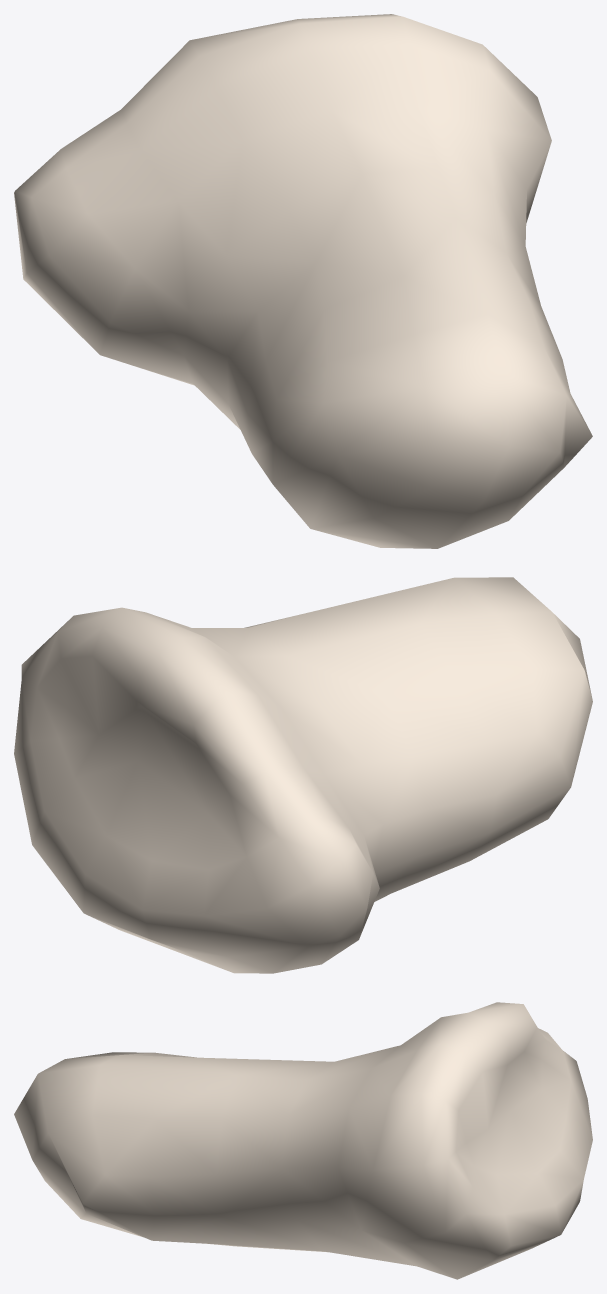
Rendered from right_toe_3_distal.glb.
The picture shows the model from 3 angles, top to bottom: view 1: azimuth 30°, elevation 25°; view 2: azimuth 150°, elevation 25°; view 3: azimuth 270°, elevation 25°; orthographic projection. The views are drawn at different scales.
Parts seen in each view (by area): view 1: Distal phalanx of third finger of foot.r; view 2: Distal phalanx of third finger of foot.r; view 3: Distal phalanx of third finger of foot.r.
Part boxes in pixels (x1,y1,x2,y2): Distal phalanx of third finger of foot.r: [14, 14, 592, 548]; Distal phalanx of third finger of foot.r: [14, 577, 592, 973]; Distal phalanx of third finger of foot.r: [14, 1002, 592, 1279].
Size of the model in its own units: 0.00495 by 0.00358 by 0.00735.
